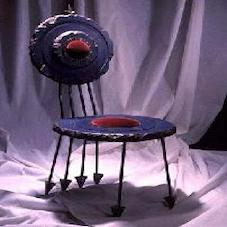chair: (23, 10, 181, 213)
